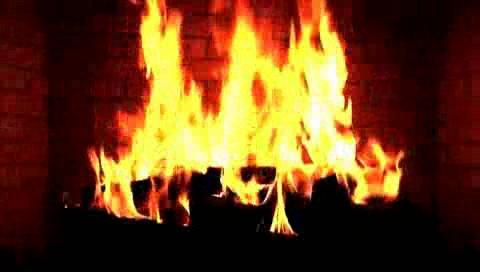fire: (82, 0, 478, 235)
